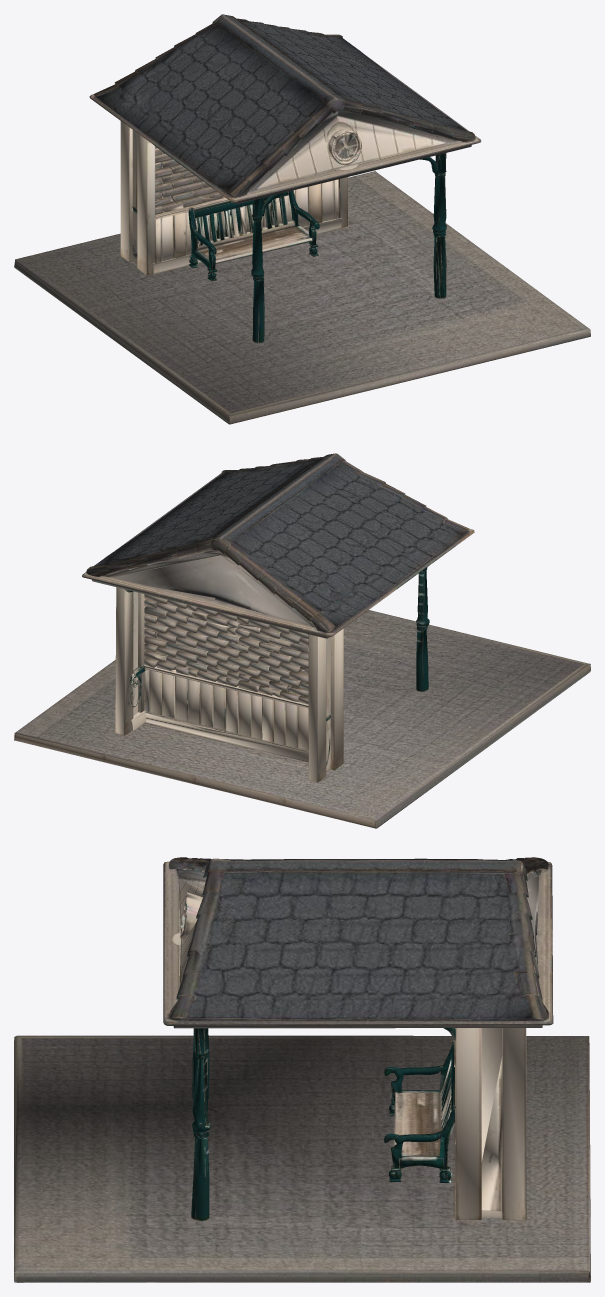
The model's file is station.glb.
The picture shows the model from 3 angles, top to bottom: view 1: azimuth 30°, elevation 25°; view 2: azimuth 150°, elevation 25°; view 3: azimuth 270°, elevation 25°; orthographic projection. The views are drawn at different scales.
Bounding box in the file's own units: 0.9468 × 0.5713 × 0.9766.
Materials: 1 (1 with a texture image).
